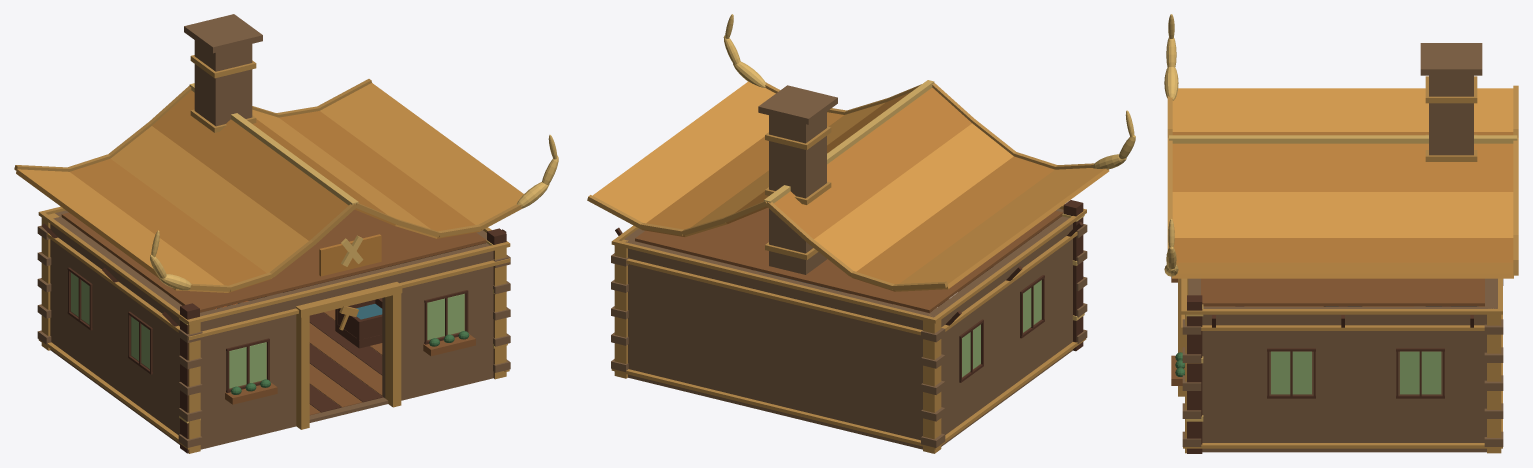
Rendered from Forge.glb.
3 renders of one model, left to right at view 1: azimuth 30°, elevation 25°; view 2: azimuth 150°, elevation 25°; view 3: azimuth 270°, elevation 25°, orthographic. The views are drawn at different scales.
Visible parts, largest first — view 1: Forge_002_Side, Forge_177_ProfileRoof, Forge_159_ProfileRoof, Forge_003_FrontWing, Forge_040_FrontWing, Forge_156_ProfileRoof, Forge_095_Ceiling, Forge_162_ProfileRoof, Forge_165_ProfileRoof, Forge_174_ProfileRoof, Forge_203_ForgeChimney, Forge_171_ProfileRoof (+28 smaller); view 2: Forge_001_Rear, Forge_002_Side, Forge_159_ProfileRoof, Forge_177_ProfileRoof, Forge_156_ProfileRoof, Forge_095_Ceiling, Forge_162_ProfileRoof, Forge_165_ProfileRoof, Forge_203_ForgeChimney, Forge_174_ProfileRoof, Forge_086_RearCourse, Forge_207_ChimneyCap (+14 smaller); view 3: Forge_039_Side, Forge_168_ProfileRoof, Forge_171_ProfileRoof, Forge_165_ProfileRoof, Forge_174_ProfileRoof, Forge_095_Ceiling, Forge_177_ProfileRoof, Forge_203_ForgeChimney, Forge_180_Ridge, Forge_207_ChimneyCap, Forge_088_SideCourse, Forge_188_HearthTimber (+12 smaller).
Boxes of the visible parts, bbox=[...] form: Forge_002_Side: bbox=[50, 213, 181, 444]; Forge_177_ProfileRoof: bbox=[320, 83, 523, 231]; Forge_159_ProfileRoof: bbox=[110, 126, 308, 278]; Forge_003_FrontWing: bbox=[200, 289, 304, 448]; Forge_040_FrontWing: bbox=[382, 243, 492, 400]; Forge_156_ProfileRoof: bbox=[152, 90, 348, 240]; Forge_095_Ceiling: bbox=[61, 209, 486, 312]; Forge_162_ProfileRoof: bbox=[70, 158, 270, 292]; Forge_165_ProfileRoof: bbox=[16, 169, 228, 292]; Forge_174_ProfileRoof: bbox=[279, 111, 479, 238]; Forge_203_ForgeChimney: bbox=[194, 40, 252, 126]; Forge_171_ProfileRoof: bbox=[252, 109, 437, 238]; Forge_001_Rear: bbox=[624, 239, 936, 448]; Forge_002_Side: bbox=[926, 216, 1072, 444]; Forge_159_ProfileRoof: bbox=[814, 123, 1013, 277]; Forge_177_ProfileRoof: bbox=[590, 81, 775, 229]; Forge_156_ProfileRoof: bbox=[774, 87, 971, 238]; Forge_095_Ceiling: bbox=[635, 208, 1062, 312]; Forge_162_ProfileRoof: bbox=[852, 156, 1054, 291]; Forge_165_ProfileRoof: bbox=[895, 168, 1109, 291]; Forge_203_ForgeChimney: bbox=[769, 112, 826, 274]; Forge_174_ProfileRoof: bbox=[642, 112, 843, 236]; Forge_086_RearCourse: bbox=[611, 239, 938, 323]; Forge_207_ChimneyCap: bbox=[758, 85, 837, 124]; Forge_039_Side: bbox=[1202, 306, 1497, 452]; Forge_168_ProfileRoof: bbox=[1172, 143, 1513, 191]; Forge_171_ProfileRoof: bbox=[1172, 192, 1513, 237]; Forge_165_ProfileRoof: bbox=[1172, 88, 1513, 131]; Forge_174_ProfileRoof: bbox=[1173, 238, 1513, 262]; Forge_095_Ceiling: bbox=[1201, 278, 1484, 306]; Forge_177_ProfileRoof: bbox=[1172, 262, 1513, 278]; Forge_203_ForgeChimney: bbox=[1429, 75, 1473, 155]; Forge_180_Ridge: bbox=[1169, 135, 1517, 143]; Forge_207_ChimneyCap: bbox=[1420, 43, 1482, 75]; Forge_088_SideCourse: bbox=[1183, 309, 1502, 314]; Forge_188_HearthTimber: bbox=[1187, 295, 1202, 453].
Size of the model in its own units: 39.13 by 27.28 by 27.45.
